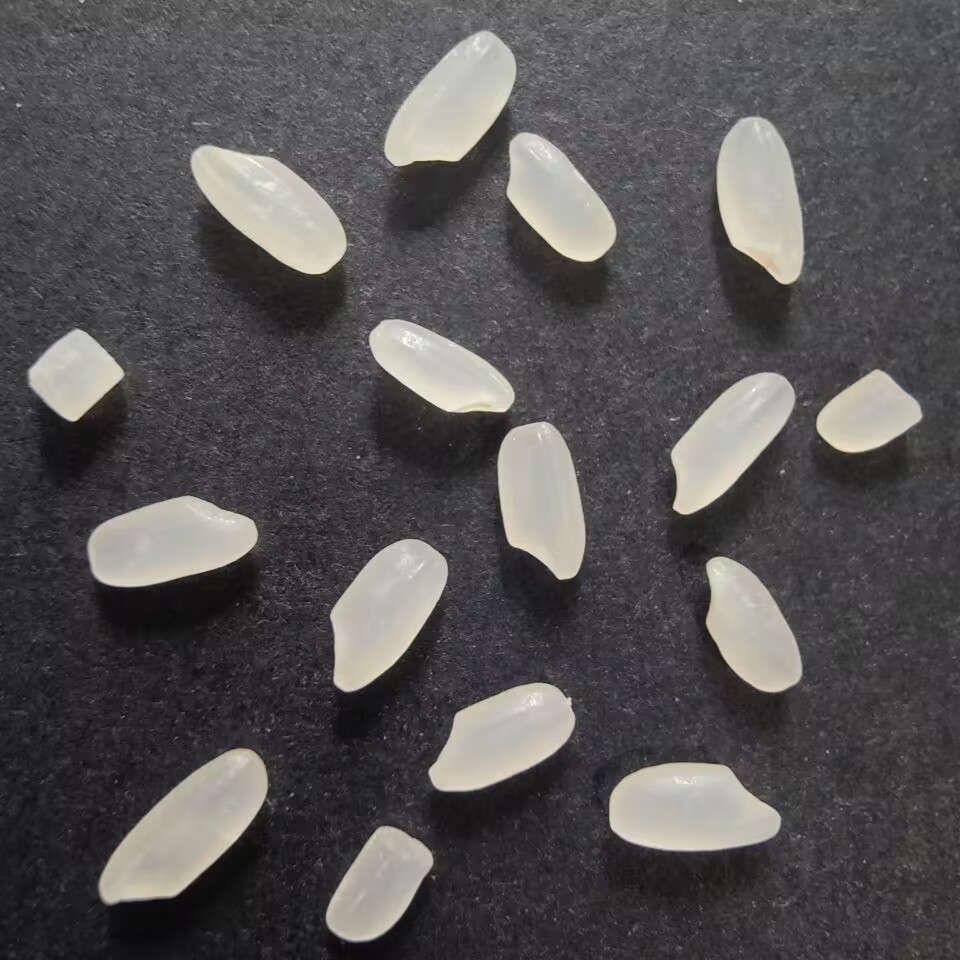broken: (320, 820, 439, 947), (811, 363, 929, 464), (25, 320, 132, 429)
rice: (96, 740, 278, 912), (179, 142, 348, 282), (318, 534, 453, 701), (380, 23, 525, 177), (658, 366, 799, 519), (79, 486, 264, 593), (707, 106, 810, 294), (600, 753, 788, 855), (426, 681, 581, 798), (695, 550, 810, 697), (362, 315, 519, 422), (497, 127, 620, 263), (492, 418, 587, 591)
